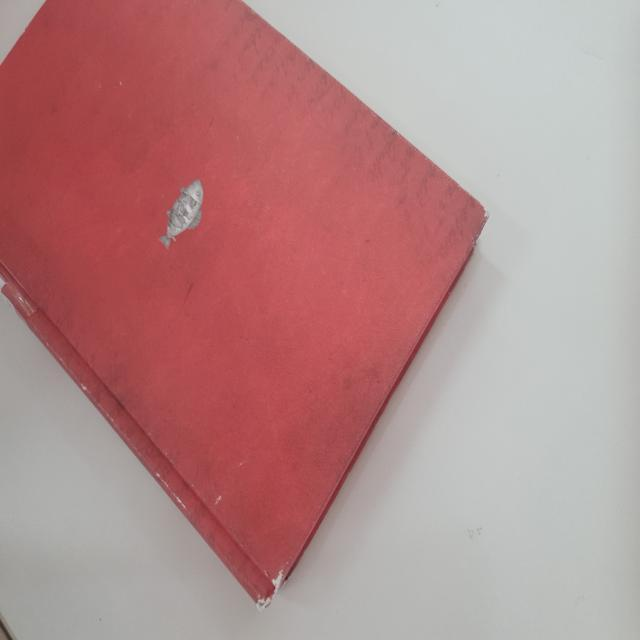Ripped: (248, 552, 295, 617)
Wornout: (368, 109, 431, 162), (77, 376, 119, 431), (150, 466, 193, 514), (471, 194, 497, 253), (281, 33, 318, 68), (447, 172, 470, 196), (239, 0, 263, 22)
